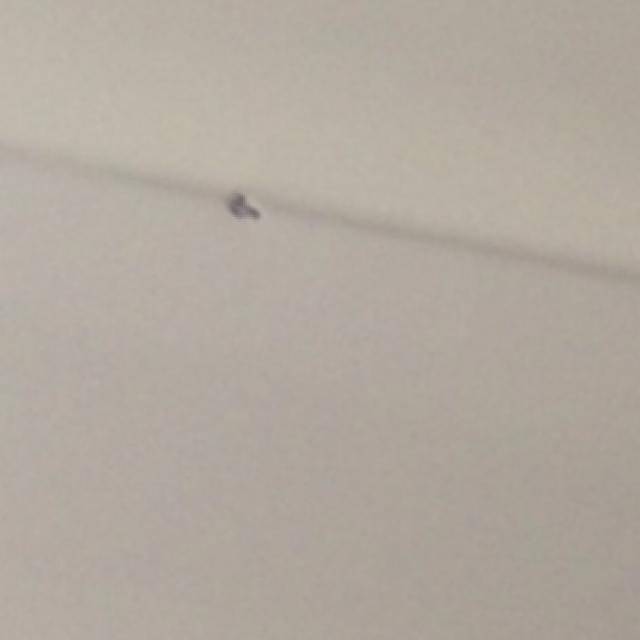dents: (210, 174, 276, 250)
